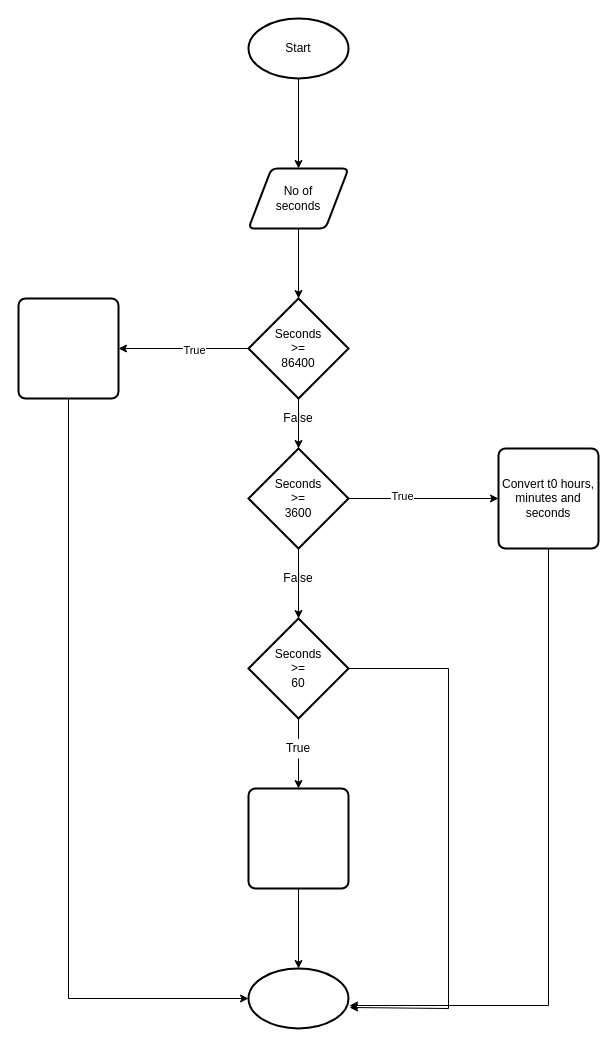
Image size: 616x1046. Some labels were removed from this diagram. The shapes that lost their labels are listed below. From the top down, each one's box as (x1, y1, x2, y2) in pixels, then its label:
(17, 297, 119, 399): Convert to days, hours, minutes and seconds
(247, 787, 349, 889): Convert to minutes and seconds
(247, 967, 349, 1029): End
